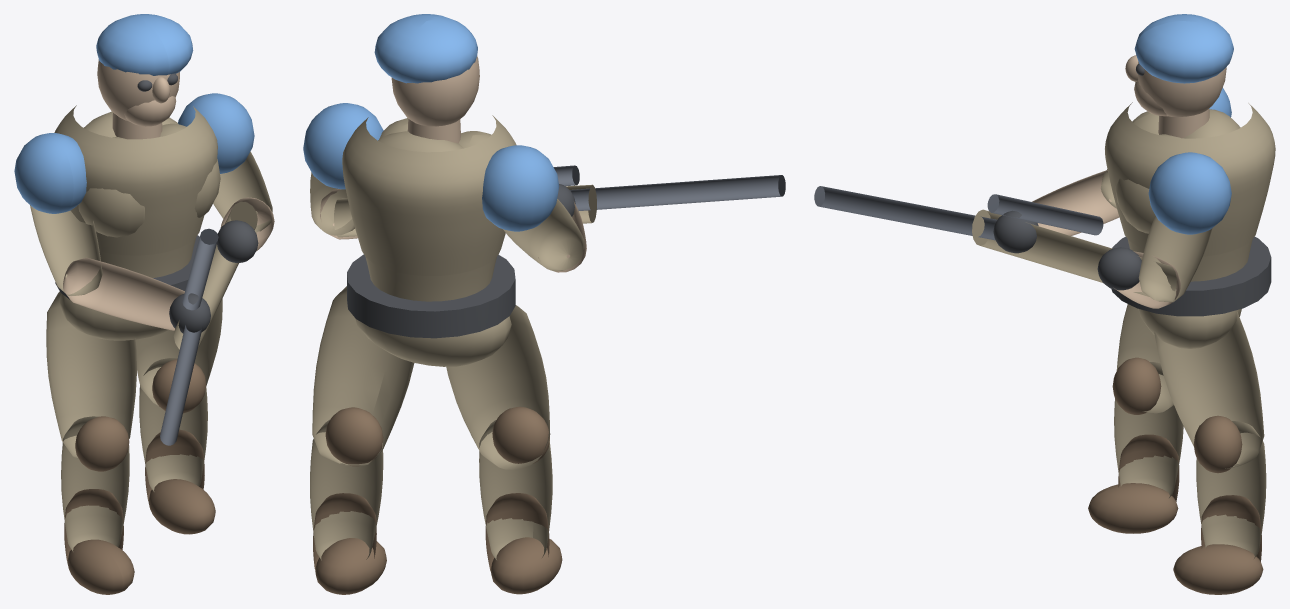
Rendered from snipe.glb.
3 views of the same model, side by side, from view 1: azimuth 30°, elevation 25°; view 2: azimuth 150°, elevation 25°; view 3: azimuth 270°, elevation 25° (orthographic). The views are drawn at different scales.
Visible parts, largest first — view 1: Hull; view 2: Hull; view 3: Hull.
Boxes of the visible parts, x1,y1,x2,y2 form: Hull: (14,14,274,594); Hull: (303,14,785,594); Hull: (814,14,1275,594).
Size of the model in its own units: 0.5058 by 0.933 by 0.7172.
